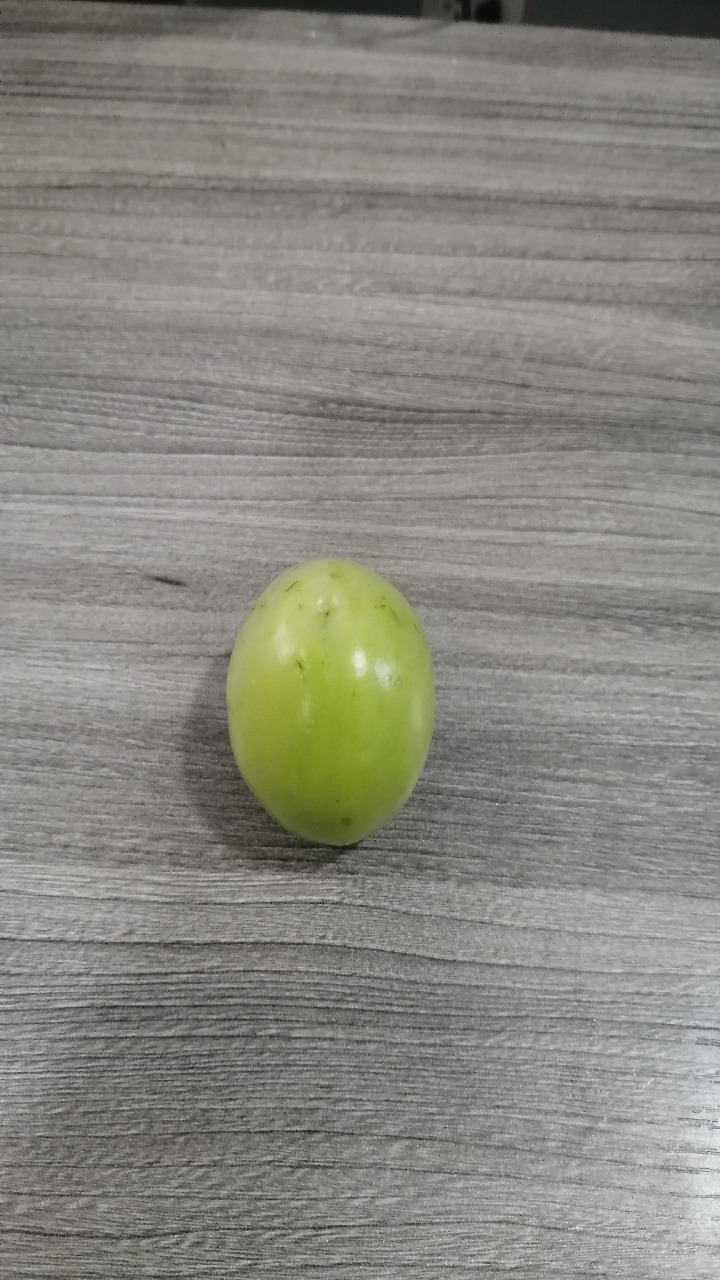tomateVerde: (218, 534, 478, 860)
